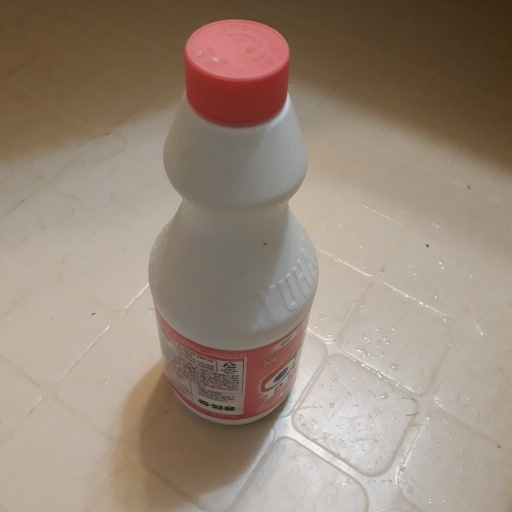Plastic_0: (149, 17, 319, 430)
